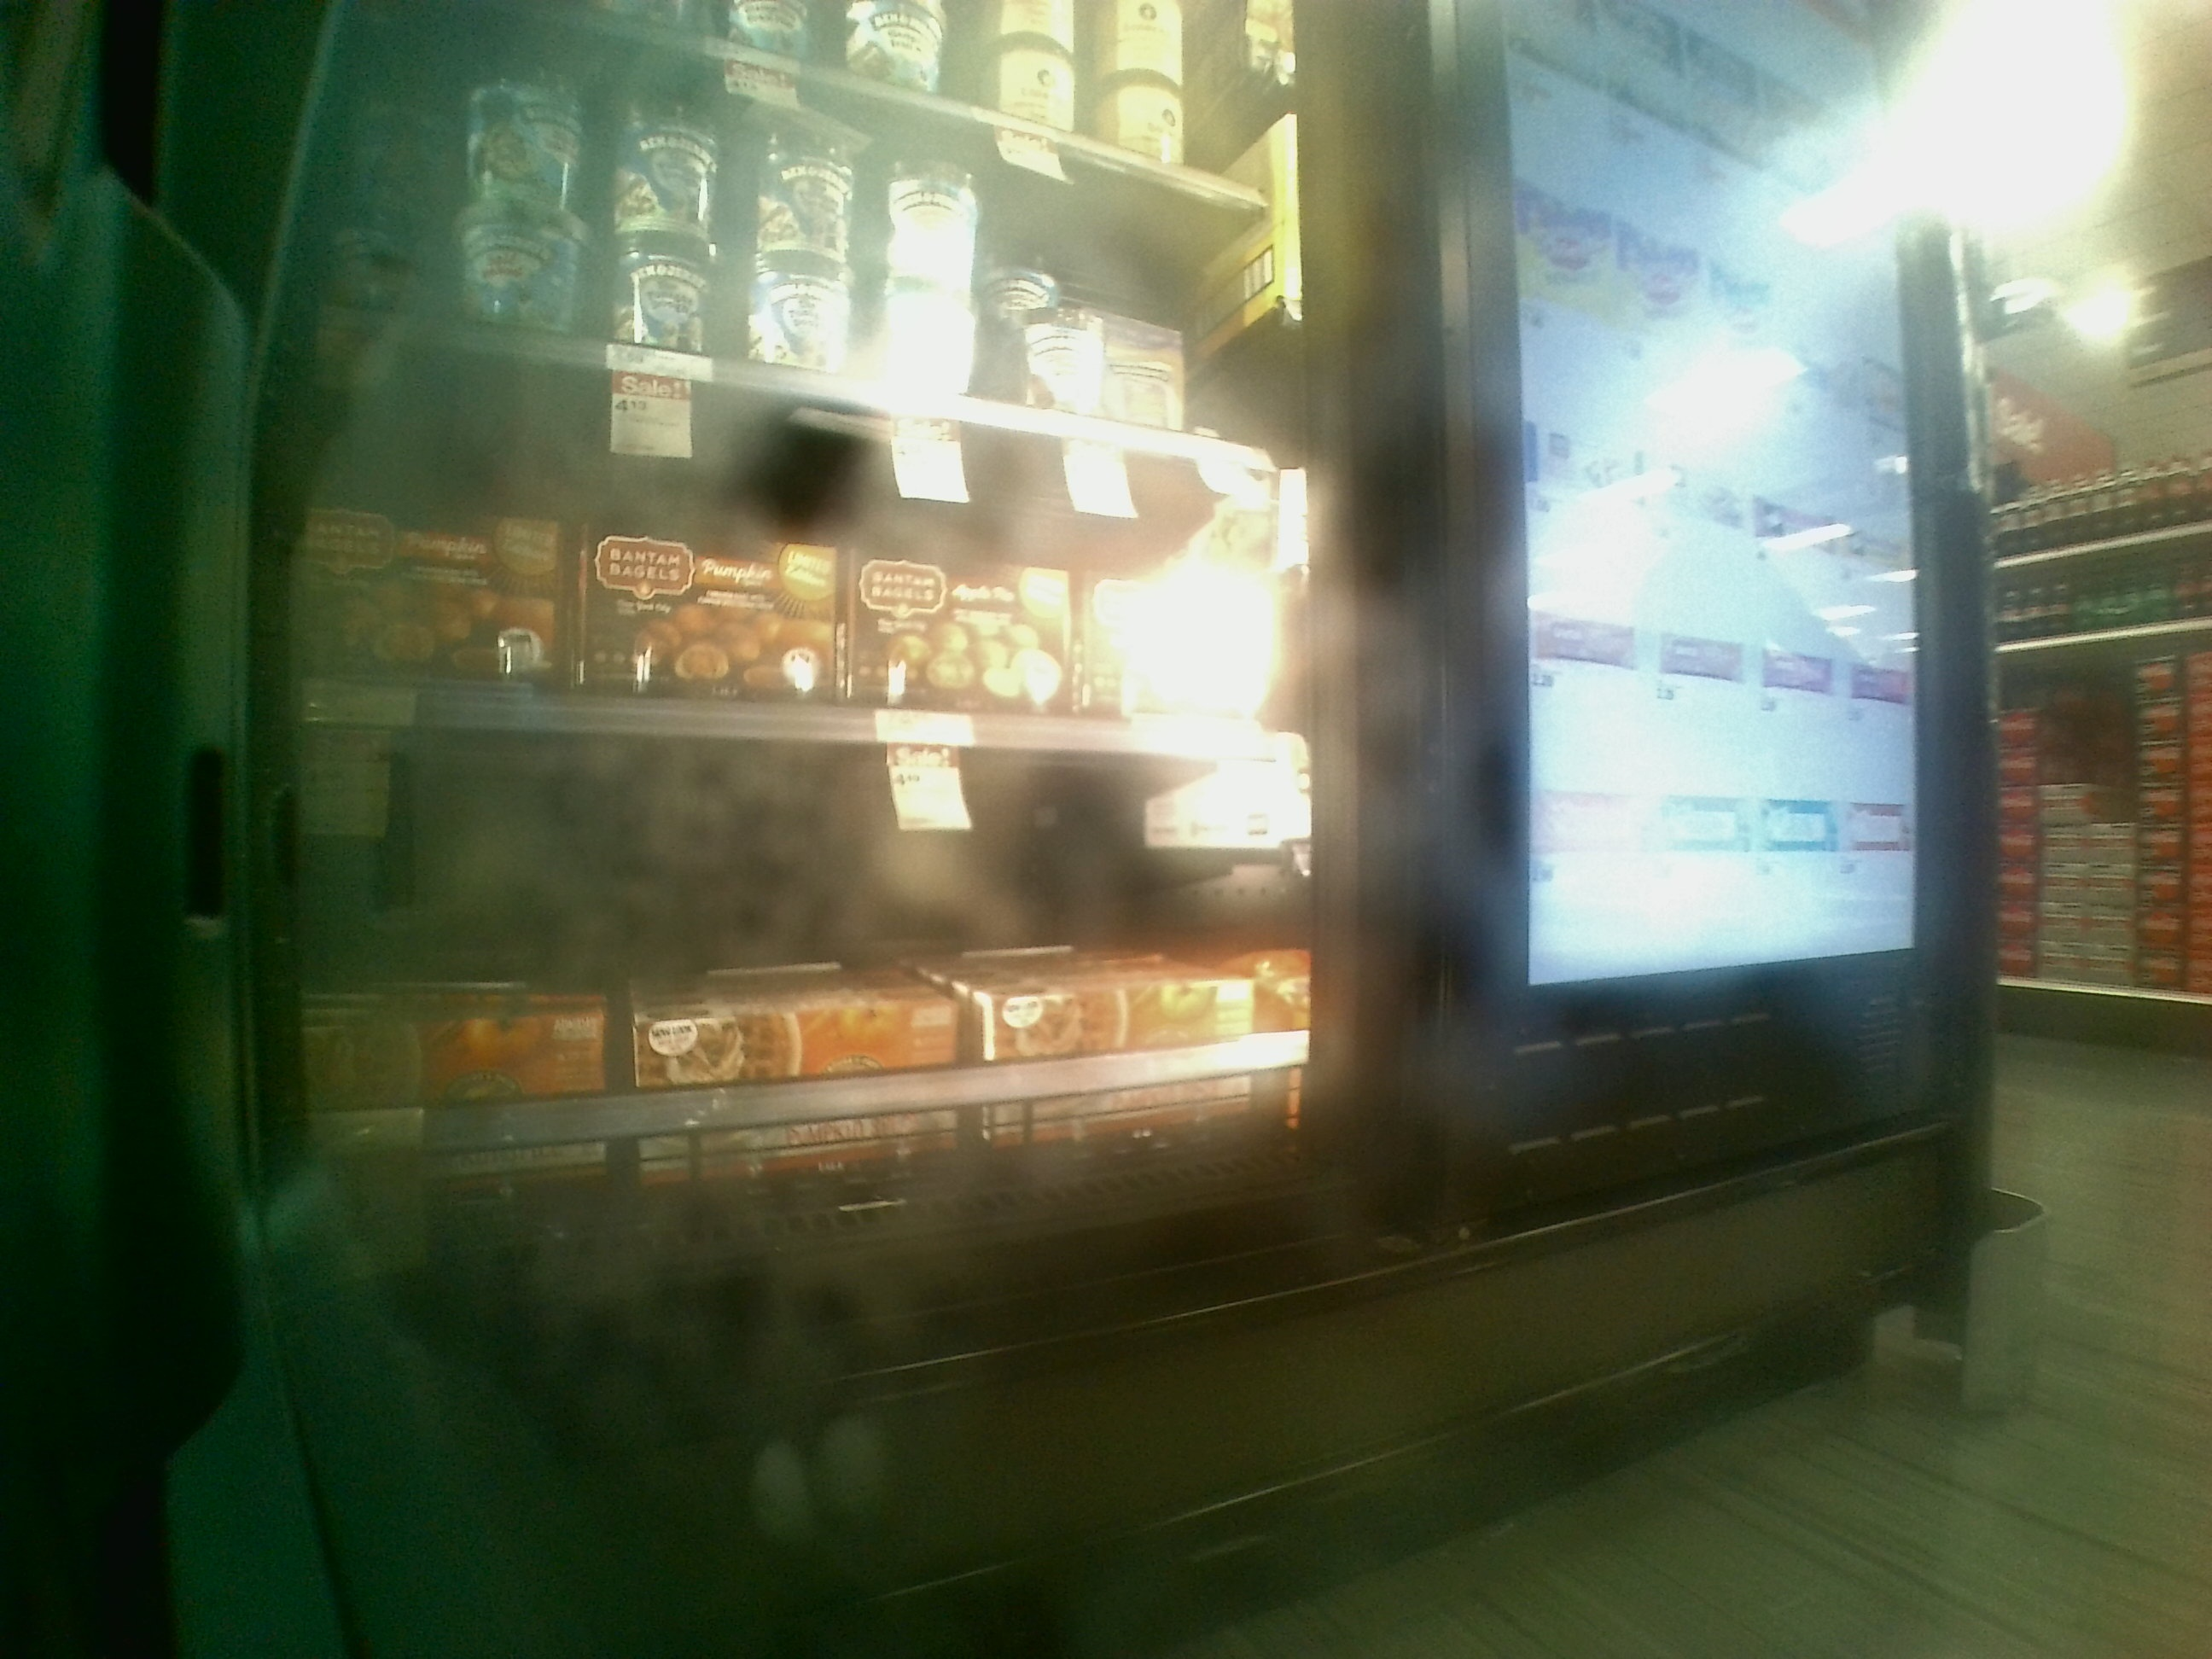shelf: (308, 735, 1331, 1246), (314, 349, 1331, 769)
